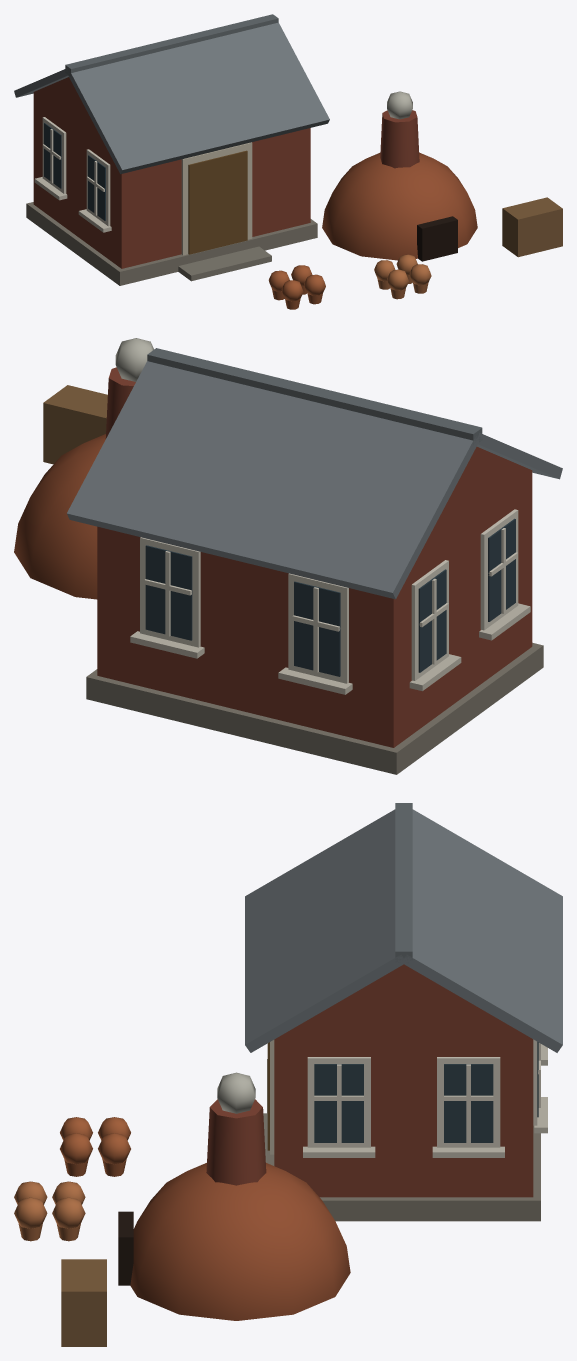
File: procedural_pottery_kiln@5.glb
3 renders of one model, top to bottom at view 1: azimuth 30°, elevation 25°; view 2: azimuth 150°, elevation 25°; view 3: azimuth 270°, elevation 25°, orthographic. The views are drawn at different scales.
Visible parts, largest first — view 1: part_0, part_4; view 2: part_0, part_4; view 3: part_0, part_4.
Part boxes in pixels (x1,y1,x2,y2): part_0: (14,14,562,309); part_4: (387,91,412,119); part_0: (14,348,562,774); part_4: (115,338,153,381); part_0: (14,803,562,1346); part_4: (217,1072,255,1113).
Size of the model in its own units: 8.41 by 3.96 by 7.21.
